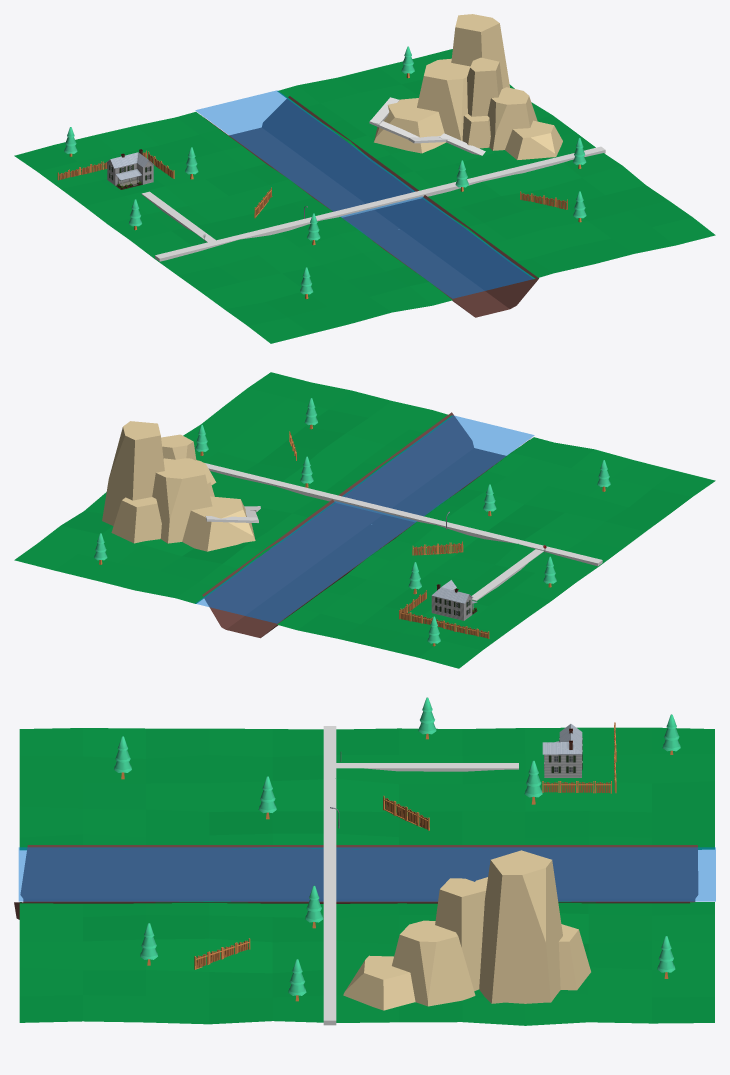
Rendered from map3.glb.
3 views of the same model, one above another, from view 1: azimuth 30°, elevation 25°; view 2: azimuth 150°, elevation 25°; view 3: azimuth 270°, elevation 25° (orthographic). The views are drawn at different scales.
Visible parts, largest first — view 1: Plane.008, Cube.001, Plane.009, rockC.002, rockC.003, Plane.011, FarmHouse_Mesh.001, Plane.010; view 2: Plane.008, Cube.001, Plane.009, rockC.002, Plane.011, FarmHouse_Mesh.001, rockC.003, Plane.010, fenceFortified.008; view 3: Plane.008, Cube.001, Plane.009, rockC.002, rockC.003, Plane.011, FarmHouse_Mesh.001, Plane.010, fenceFortified.005, fenceFortified.009, fenceFortified.008.
Part boxes in pixels (<box>): Plane.008: <box>14,49,715,343</box>; Cube.001: <box>201,96,538,317</box>; Plane.009: <box>195,90,534,298</box>; rockC.002: <box>374,14,509,153</box>; rockC.003: <box>462,57,562,159</box>; Plane.011: <box>155,146,605,261</box>; FarmHouse_Mesh.001: <box>106,149,153,189</box>; Plane.010: <box>141,191,215,242</box>; Plane.008: <box>14,372,715,668</box>; Cube.001: <box>202,412,529,638</box>; Plane.009: <box>195,415,534,623</box>; rockC.002: <box>102,421,255,551</box>; Plane.011: <box>205,463,602,566</box>; FarmHouse_Mesh.001: <box>431,580,477,620</box>; rockC.003: <box>161,434,216,496</box>; Plane.010: <box>472,549,543,601</box>; fenceFortified.008: <box>412,541,463,555</box>; Plane.008: <box>19,727,714,1025</box>; Cube.001: <box>14,845,698,919</box>; Plane.009: <box>18,847,715,901</box>; rockC.002: <box>475,850,590,1003</box>; rockC.003: <box>343,878,485,1010</box>; Plane.011: <box>323,726,336,1025</box>; FarmHouse_Mesh.001: <box>542,724,582,777</box>; Plane.010: <box>336,763,518,771</box>; fenceFortified.005: <box>542,781,611,793</box>; fenceFortified.009: <box>194,938,250,969</box>; fenceFortified.008: <box>383,796,429,830</box>.
Size of the model in its own units: 301 by 82.41 by 303.
82 materials, 2 textured.
